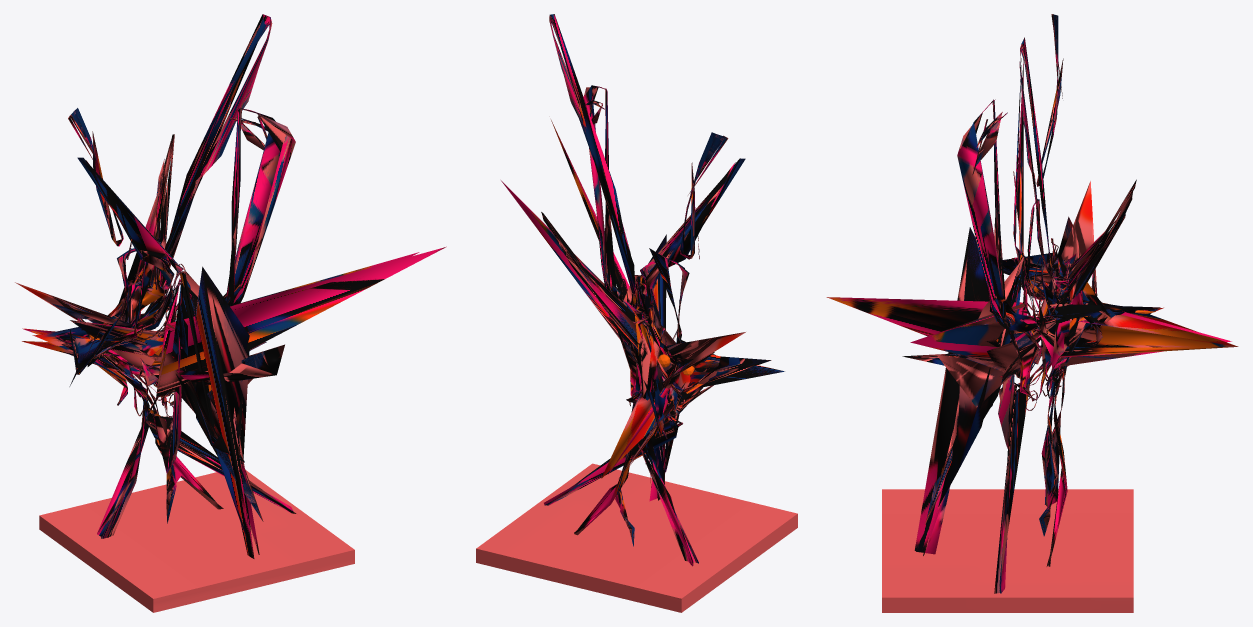
The model's file is LEGEND-RED-v106.glb.
3 views of the same model, side by side, from view 1: azimuth 30°, elevation 25°; view 2: azimuth 150°, elevation 25°; view 3: azimuth 270°, elevation 25° (orthographic). The views are drawn at different scales.
Visible parts, largest first — view 1: LEGEND-RED; view 2: LEGEND-RED; view 3: LEGEND-RED.
Part boxes in pixels (left/top/right/bottom): LEGEND-RED: left=15, top=14, right=446, bottom=612; LEGEND-RED: left=476, top=14, right=797, bottom=612; LEGEND-RED: left=826, top=14, right=1238, bottom=612.
Size of the model in its own units: 12 by 18 by 12.
Materials: 1 (1 with a texture image).
